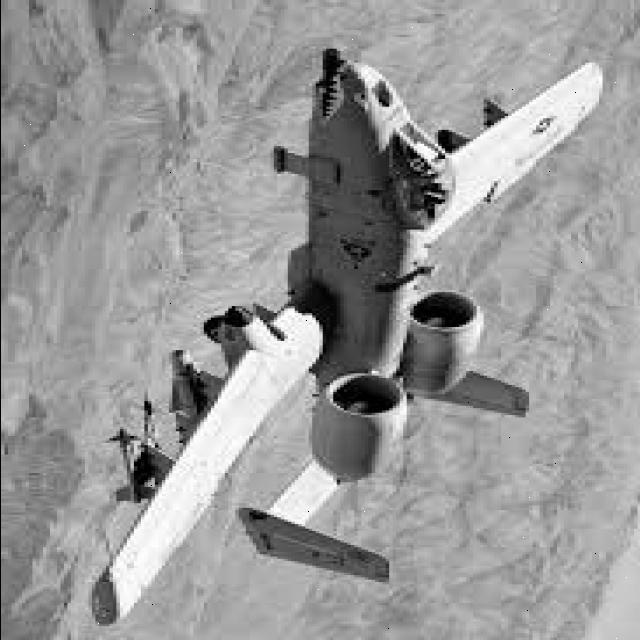A10: (65, 55, 622, 624)
